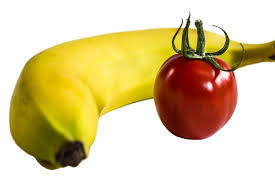banana: (9, 22, 271, 170)
tomato: (152, 49, 240, 142)
